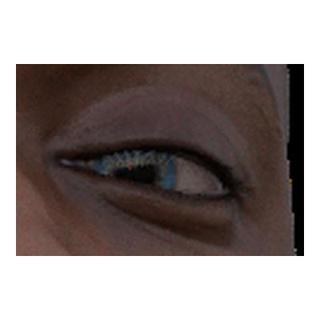pupil: (115, 155, 154, 194)
